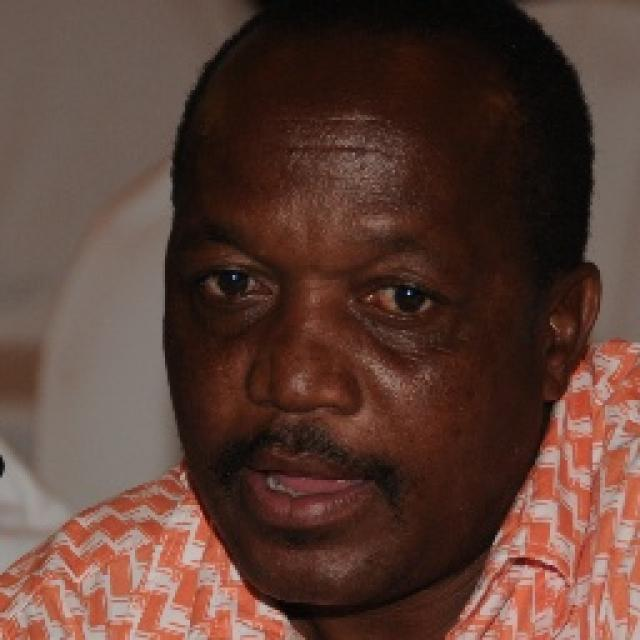earlobe: (540, 263, 601, 404)
